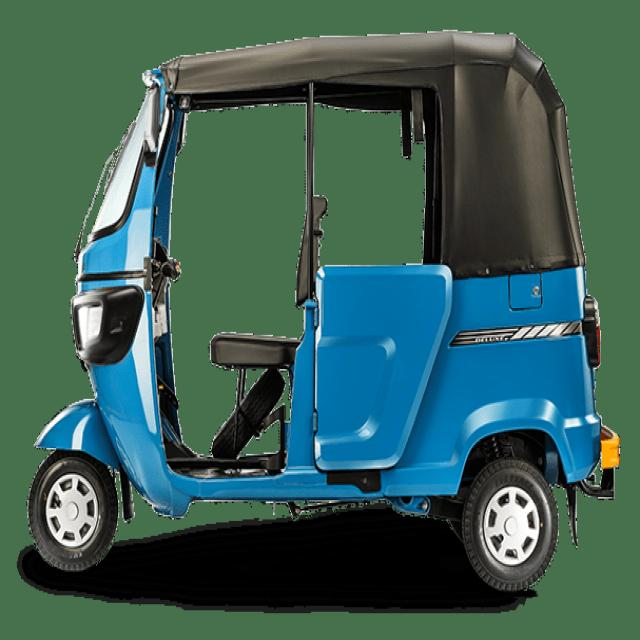autorickshaw: (28, 30, 619, 592)
